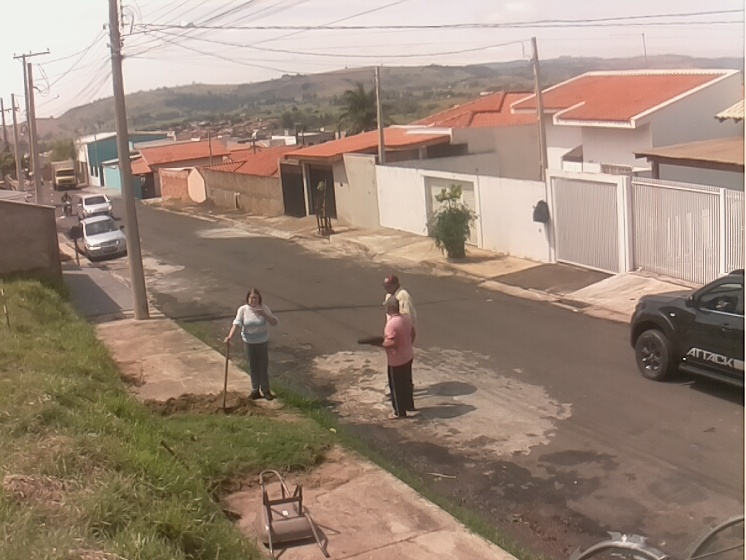person: (357, 297, 415, 418), (223, 286, 280, 403), (382, 274, 412, 315)
